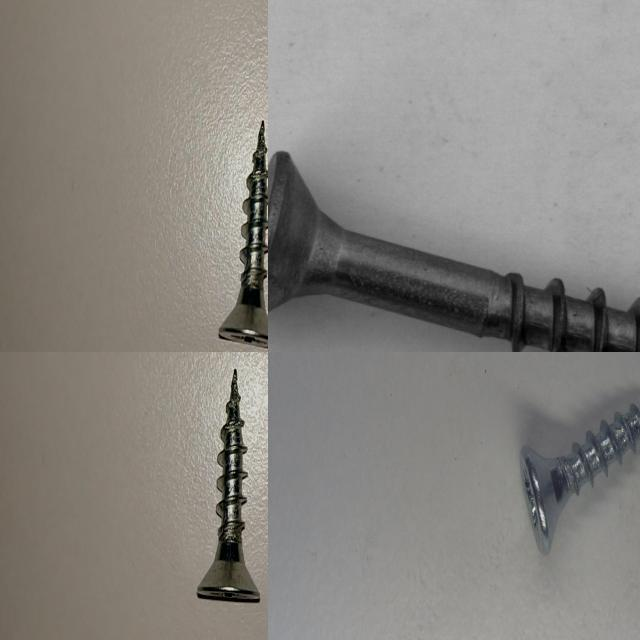Screw: (268, 132, 640, 352), (520, 403, 640, 554), (197, 368, 260, 601), (219, 119, 268, 347)
